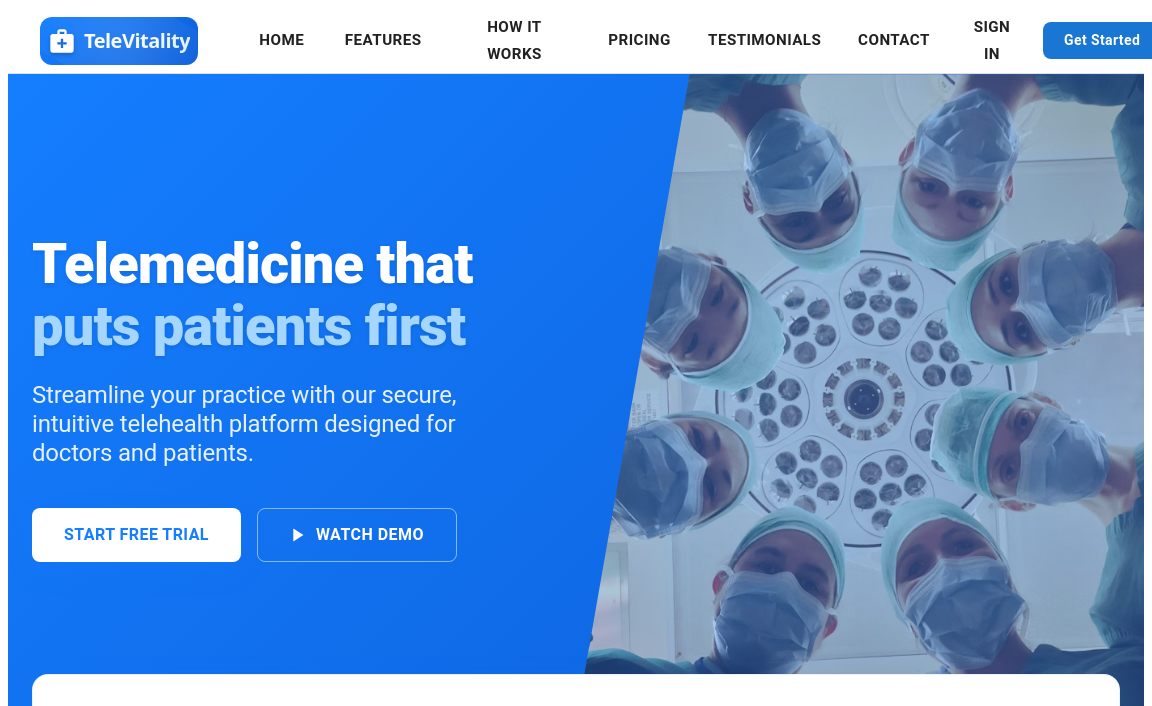
it: Forgot Password UI Smoke Test › should display the forgot password modal and email input
This screenshot has width=1152, height=706.
Note: Open SIGN IN modal
What coordinates should you click on to do the following:
click the button "Sign In"
I would click on:
 (993, 41)
Its box is [958,8,1027,73].
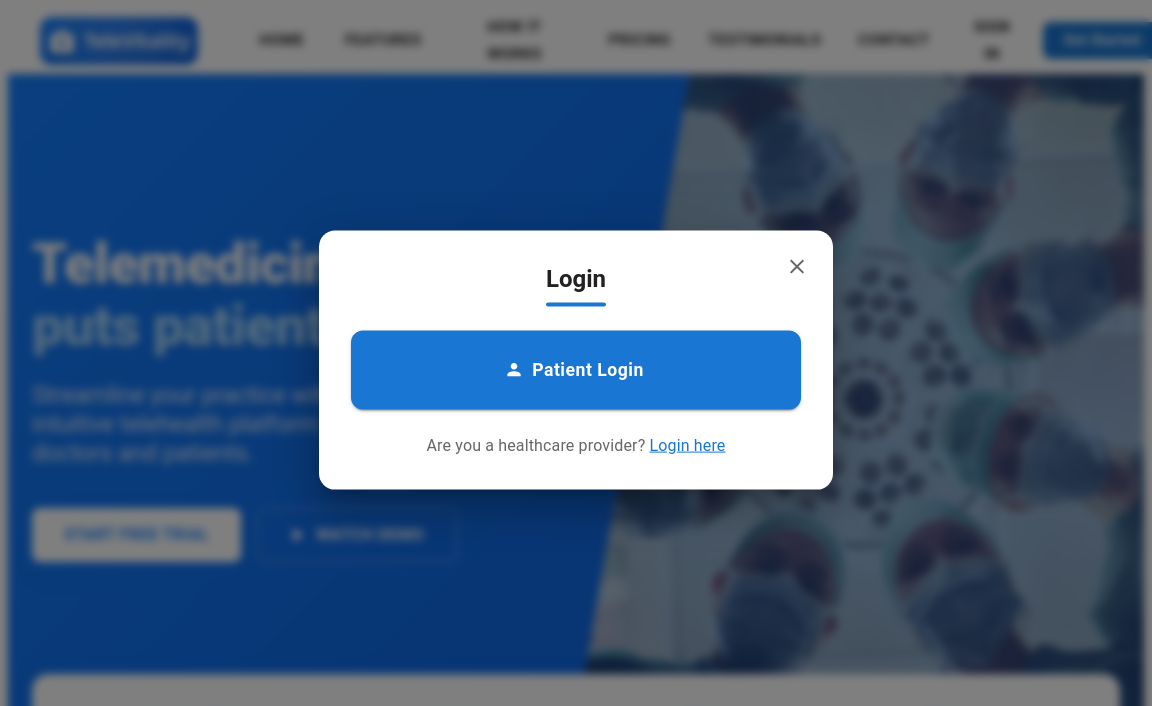
Note: Open Patient Login
What coordinates should you click on to do the following:
click the button "Patient Login"
I would click on:
 (576, 371)
Its box is [351,331,801,410].
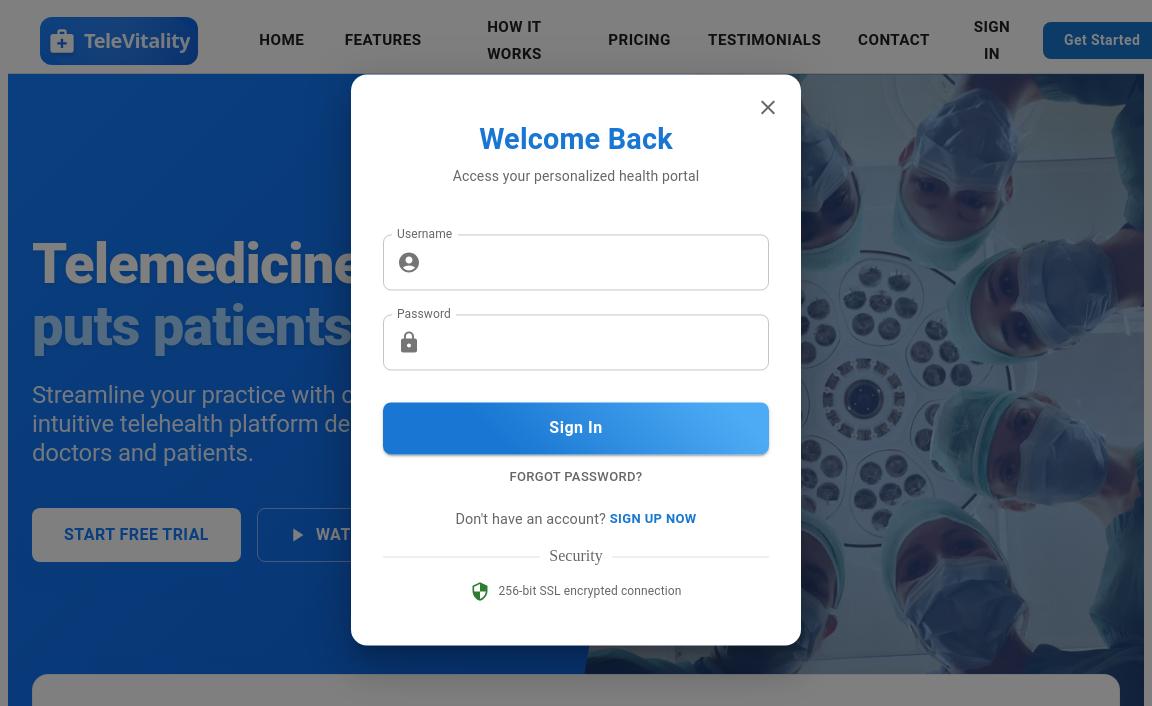
Note: Open Forgot Password modal
What coordinates should you click on to do the following:
click the button "Forgot Password?"
I would click on:
 (576, 478)
Its box is [504,462,647,493].
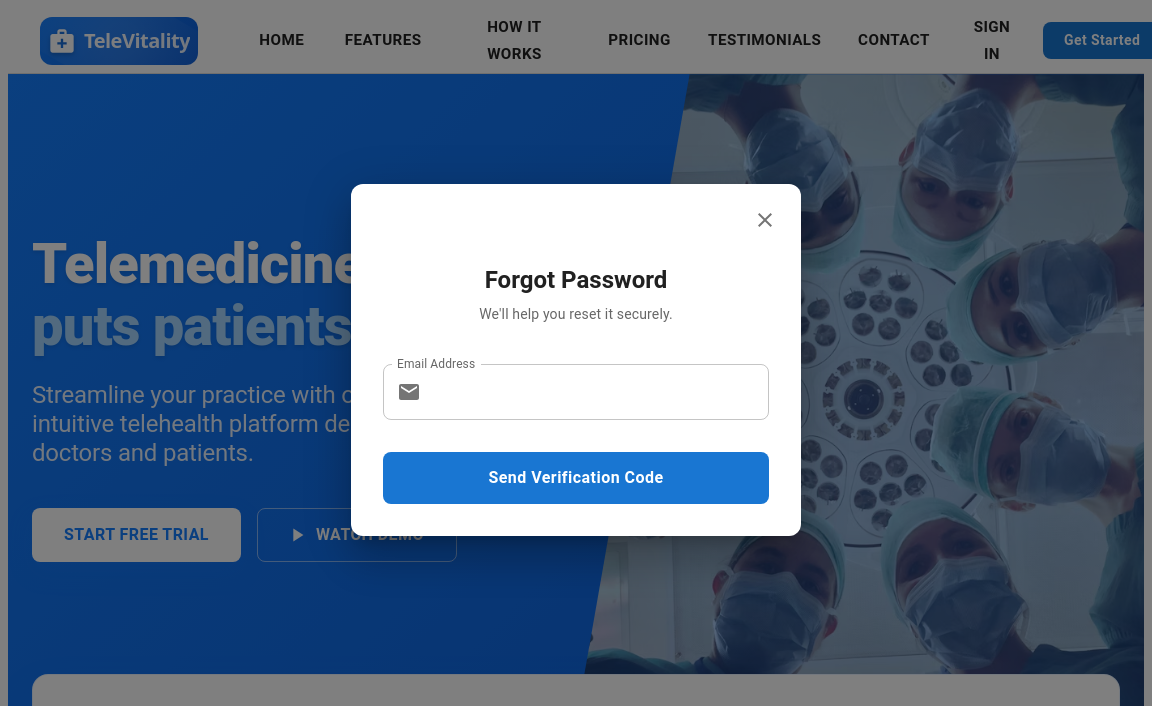
Now the heading "Forgot Password" is shown, box [485,266,667,294]
Now the field labelled "Email Address" is shown, box [429,364,769,420]
Now the button "Send Verification Code" is shown, box [383,452,769,504]
